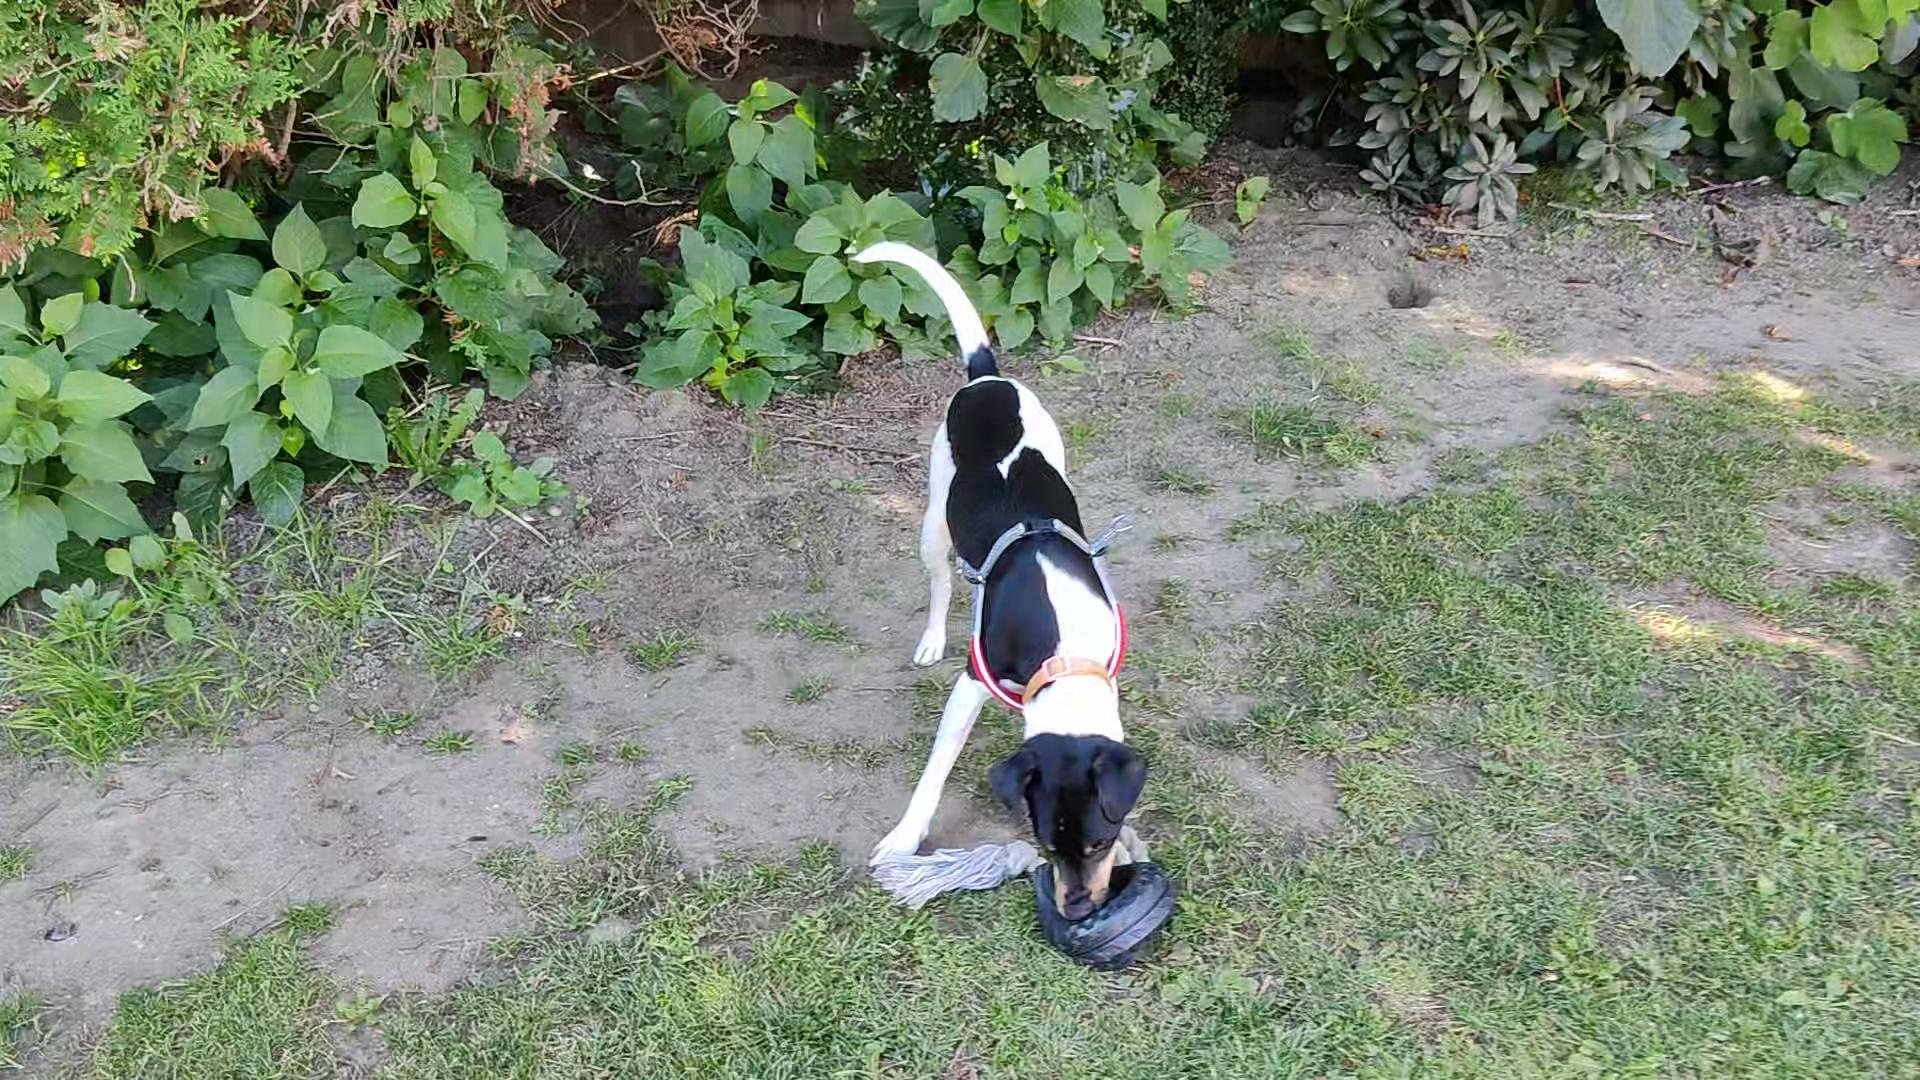Dog: (835, 233, 1209, 928)
